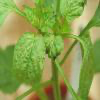Bell_pepper leaf spot: (12, 28, 46, 88), (76, 30, 94, 99), (43, 33, 65, 64), (60, 0, 86, 23), (40, 9, 58, 34), (22, 4, 39, 30)
